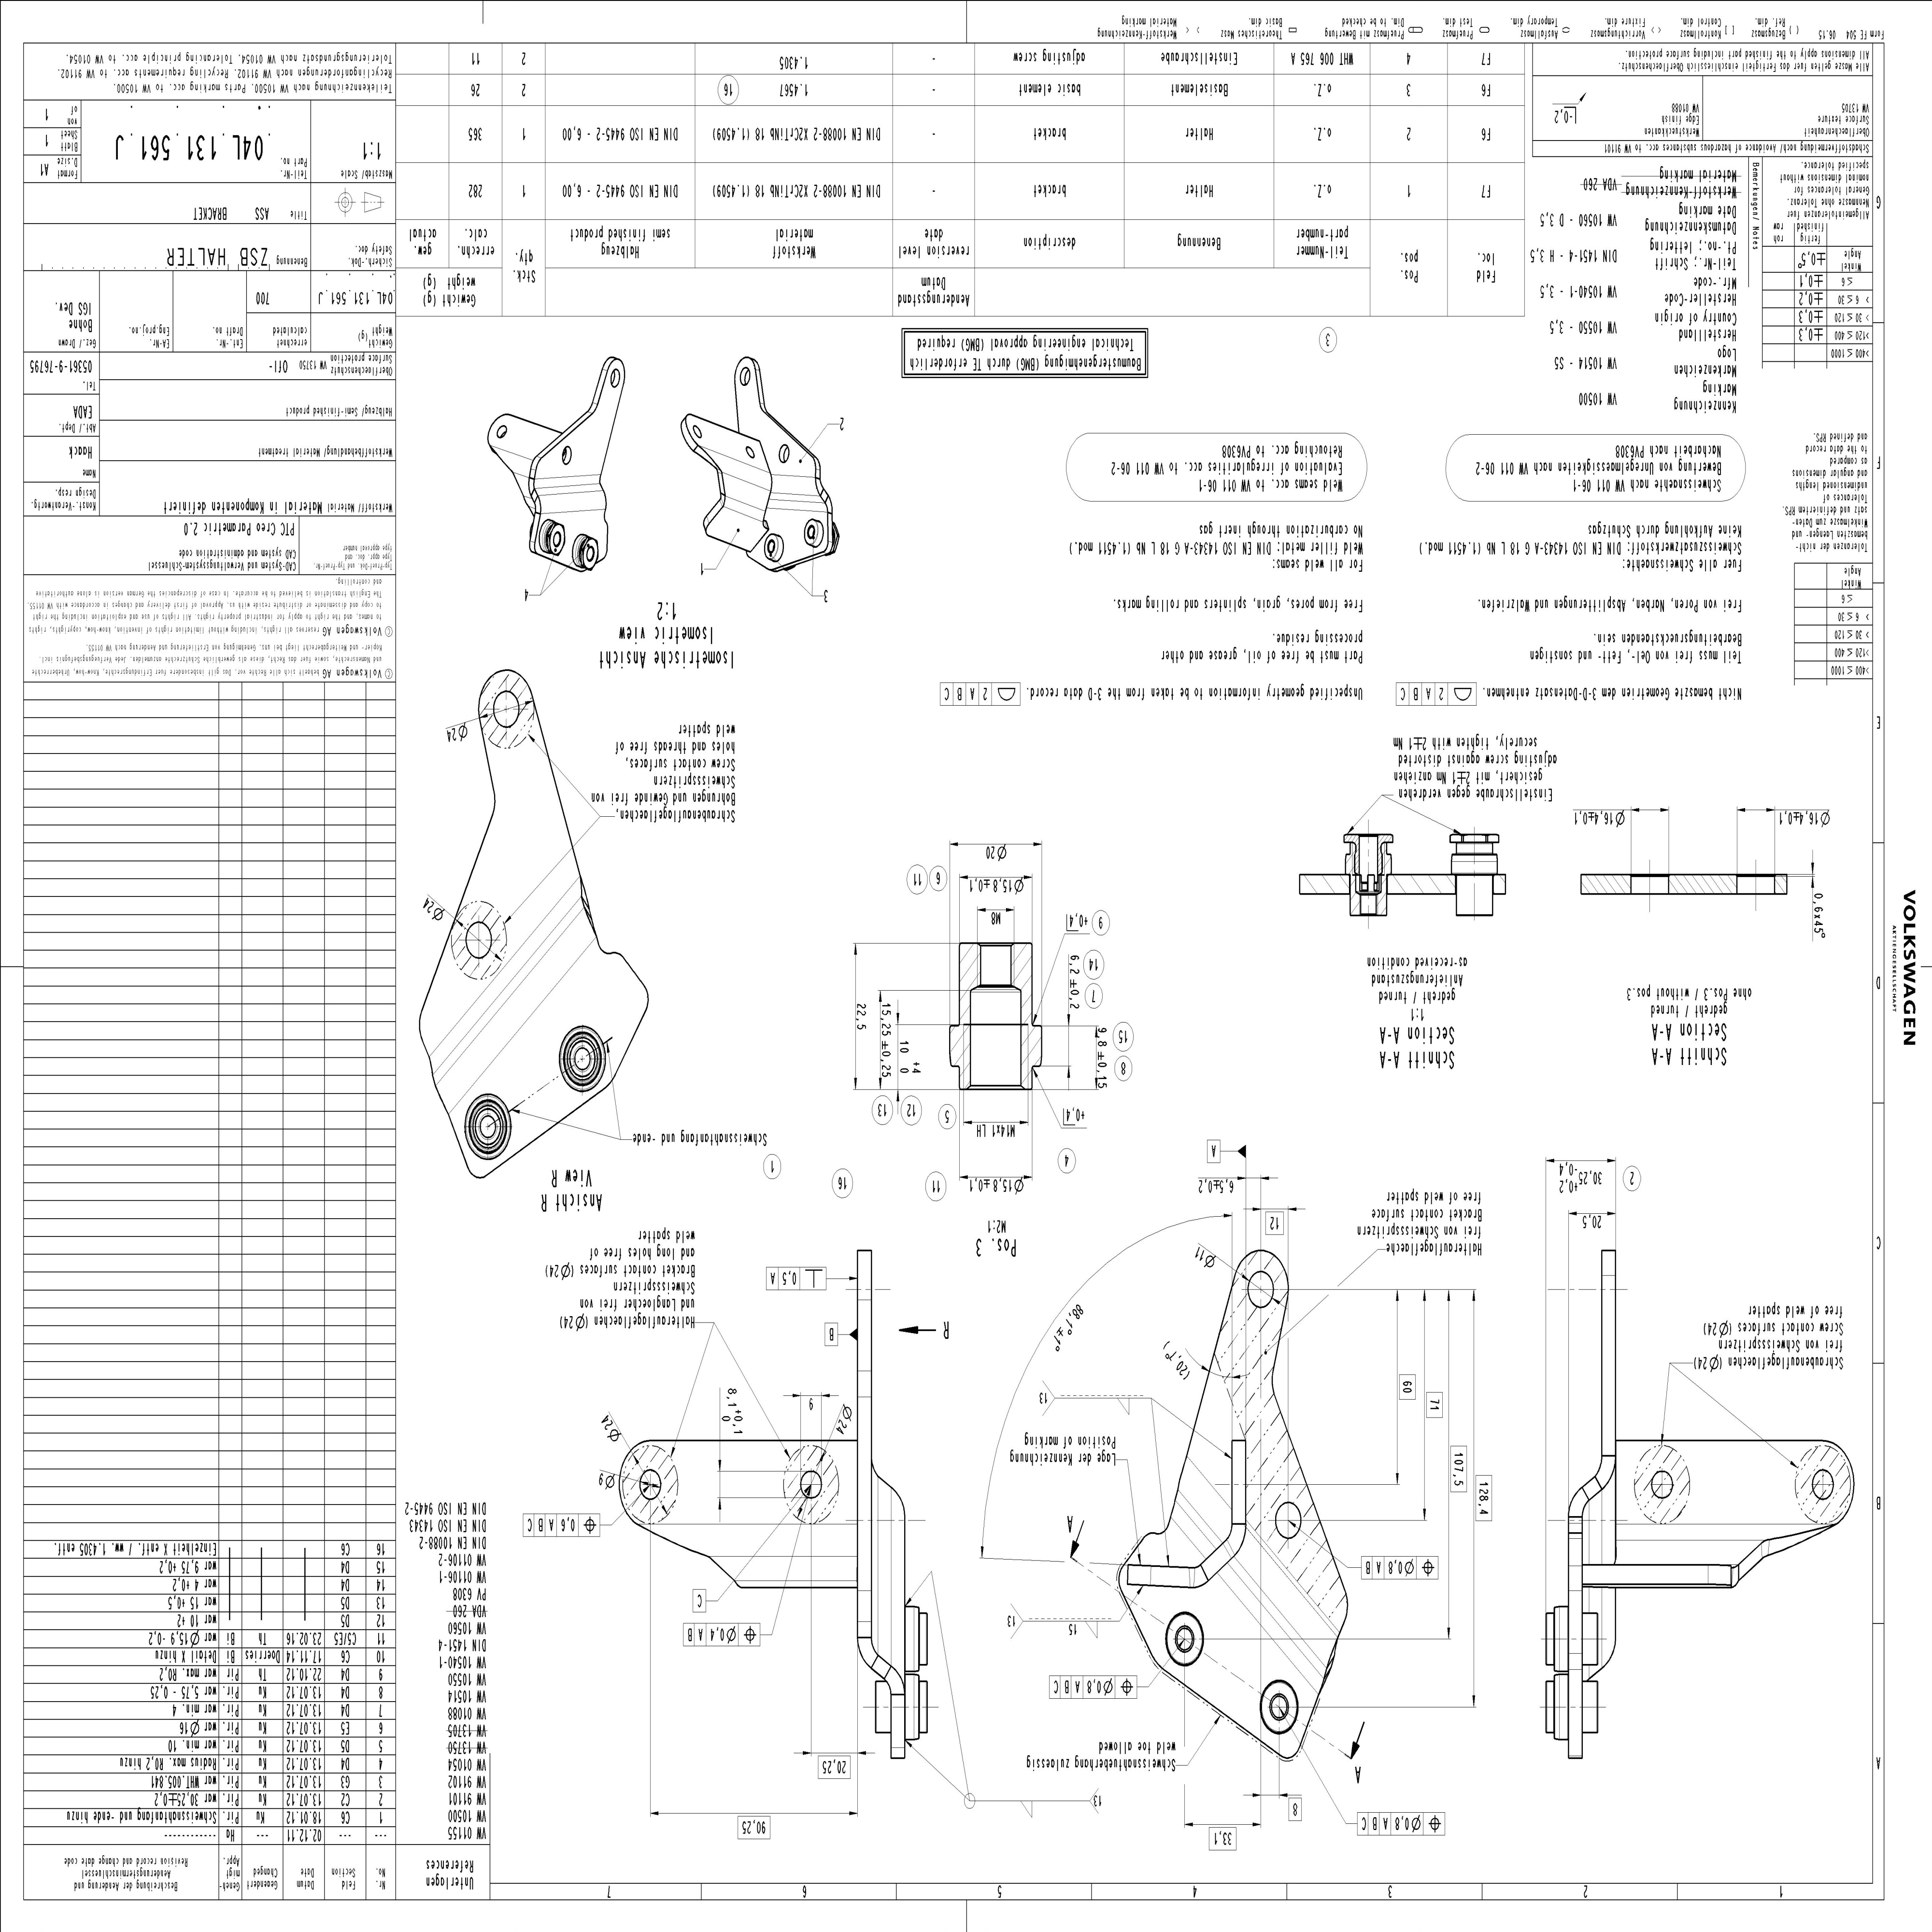BendingEdge: (423, 902, 610, 1118), (421, 872, 593, 1076), (425, 893, 593, 1090), (1219, 1522, 1352, 1674), (1212, 1559, 1338, 1704), (635, 1522, 860, 1559), (1614, 1522, 1840, 1543), (690, 442, 778, 494), (708, 1557, 860, 1582), (874, 1477, 892, 1656), (709, 467, 775, 515), (479, 442, 538, 481), (536, 487, 609, 517), (718, 492, 770, 525), (768, 472, 824, 499), (531, 472, 603, 490), (533, 481, 603, 499), (764, 497, 832, 515), (766, 490, 830, 506), (1760, 1539, 1769, 1560)
BendingEdgeCurve: (1594, 1451, 1621, 1490), (1566, 1484, 1592, 1518), (856, 1635, 879, 1670), (883, 1665, 906, 1695)
InnerContour: (1274, 1500, 1304, 1541), (1244, 1270, 1277, 1306), (462, 922, 492, 961), (492, 688, 518, 729), (637, 1470, 663, 1500), (1649, 1470, 1674, 1499), (1812, 1468, 1833, 1500), (800, 1468, 821, 1499), (738, 364, 750, 387), (777, 441, 789, 464), (743, 442, 757, 460), (561, 444, 573, 464), (610, 368, 621, 389), (494, 423, 508, 439), (692, 421, 704, 439)
ThroughHole: (1162, 1610, 1207, 1668), (1260, 1679, 1300, 1736)
